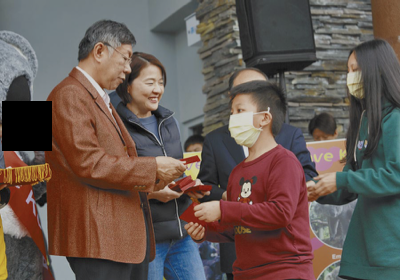with_mask: (228, 102, 263, 148), (346, 62, 367, 101)
without_mask: (101, 49, 134, 91), (133, 75, 166, 111)
